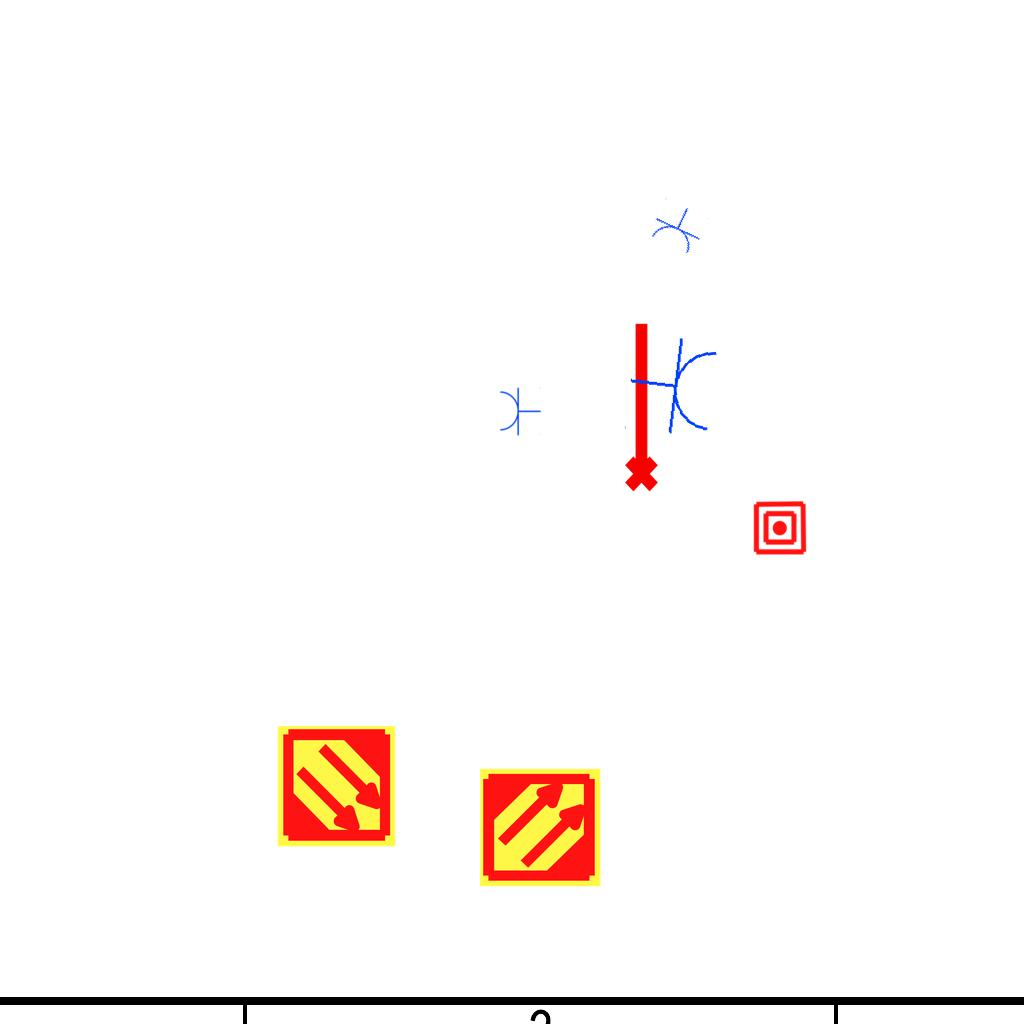ASR_Ansaugoeffnung: (616, 318, 662, 494)
ASR_Ansaugrauchmelder: (478, 765, 603, 890), (274, 724, 399, 849)
NAM-Nichtautomatischer_Melder: (752, 500, 808, 556)
Schukosteckdose_einfach: (623, 331, 723, 442), (646, 197, 710, 258), (498, 386, 541, 436)
